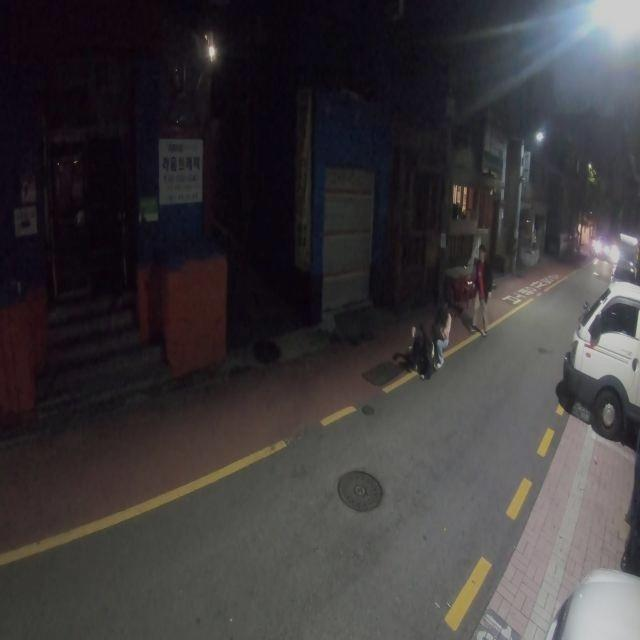fight: (401, 294, 453, 381)
non-fight: (466, 239, 495, 338)
